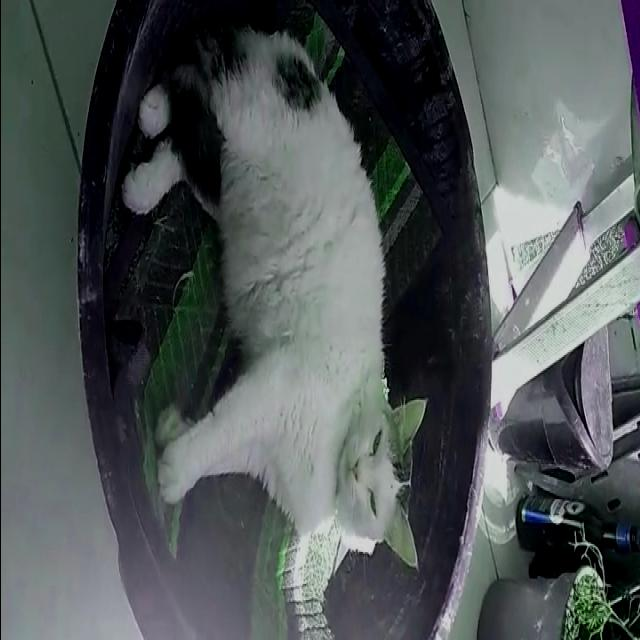Simba: (116, 12, 452, 574)
